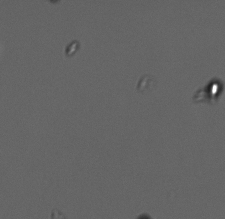Dead Cell: (63, 39, 79, 57), (136, 75, 154, 91)
Living Cell: (205, 79, 222, 97)
